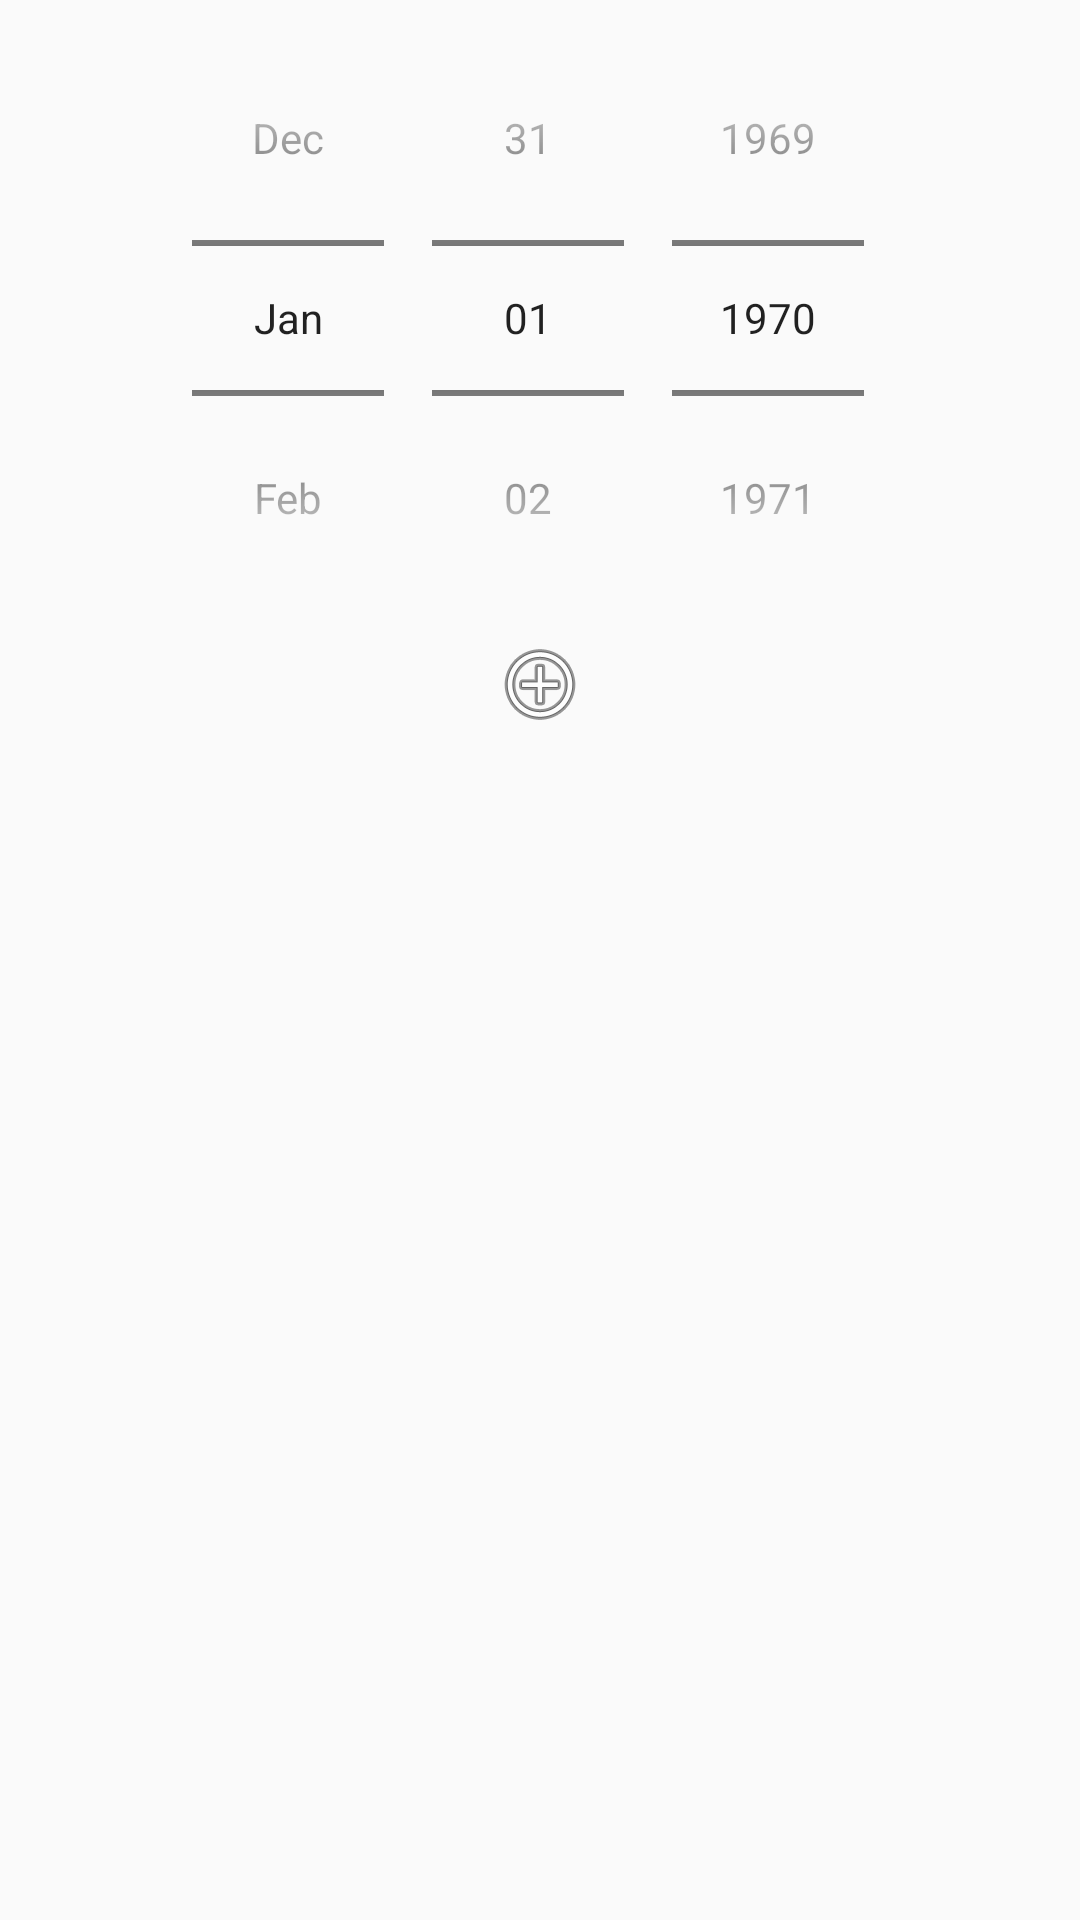

Screen size 1080px×1920px. Icon name, then its box in pixels as (x1, y1, x2, y2):
add: (504, 649, 576, 720)
